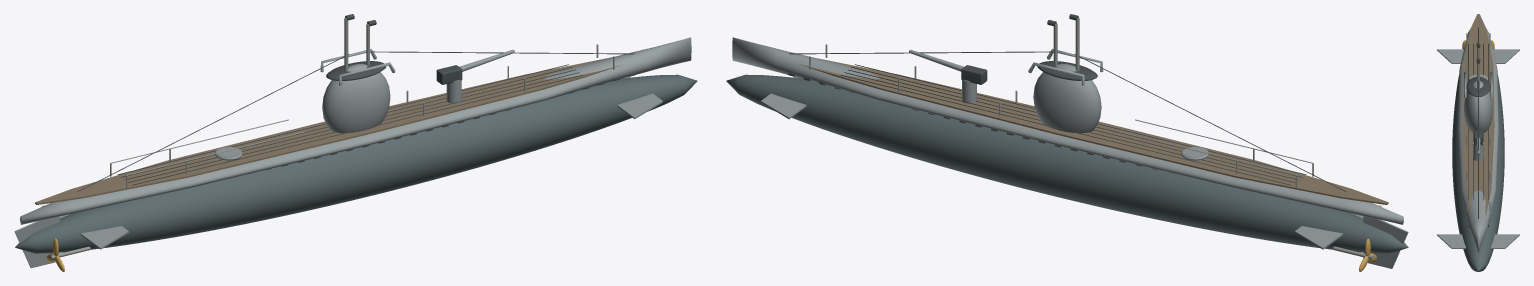
File: uboat_1916_web.glb
The picture shows the model from 3 angles, left to right: view 1: azimuth 30°, elevation 25°; view 2: azimuth 150°, elevation 25°; view 3: azimuth 270°, elevation 25°; orthographic projection. The views are drawn at different scales.
Visible parts, largest first — view 1: Pressure_Hull_Dark, Submarine_Grey, Deck_Timber, Dark_Blued_Steel, Burnished_Steel; view 2: Pressure_Hull_Dark, Submarine_Grey, Deck_Timber, Dark_Blued_Steel, Burnished_Steel; view 3: Submarine_Grey, Deck_Timber, Pressure_Hull_Dark, Dark_Blued_Steel, Burnished_Steel.
Part boxes in pixels (x1,y1,x2,y2): Pressure_Hull_Dark: (15,74,697,253); Submarine_Grey: (14,37,691,268); Deck_Timber: (35,57,621,204); Dark_Blued_Steel: (77,14,635,191); Burnished_Steel: (50,17,614,259); Pressure_Hull_Dark: (726,74,1408,253); Submarine_Grey: (732,37,1408,268); Deck_Timber: (798,58,1388,204); Dark_Blued_Steel: (788,14,1346,191); Burnished_Steel: (809,17,1373,259); Submarine_Grey: (1437,29,1519,253); Deck_Timber: (1462,14,1494,215); Pressure_Hull_Dark: (1452,74,1504,271); Dark_Blued_Steel: (1466,27,1490,227); Burnished_Steel: (1466,33,1490,211).
Size of the model in its own units: 11.5 by 2.92 by 1.7.
